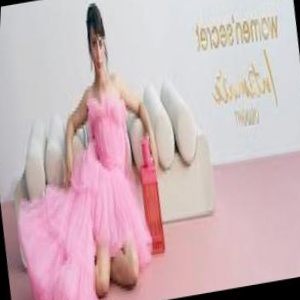women_secret: (122, 0, 300, 13)
